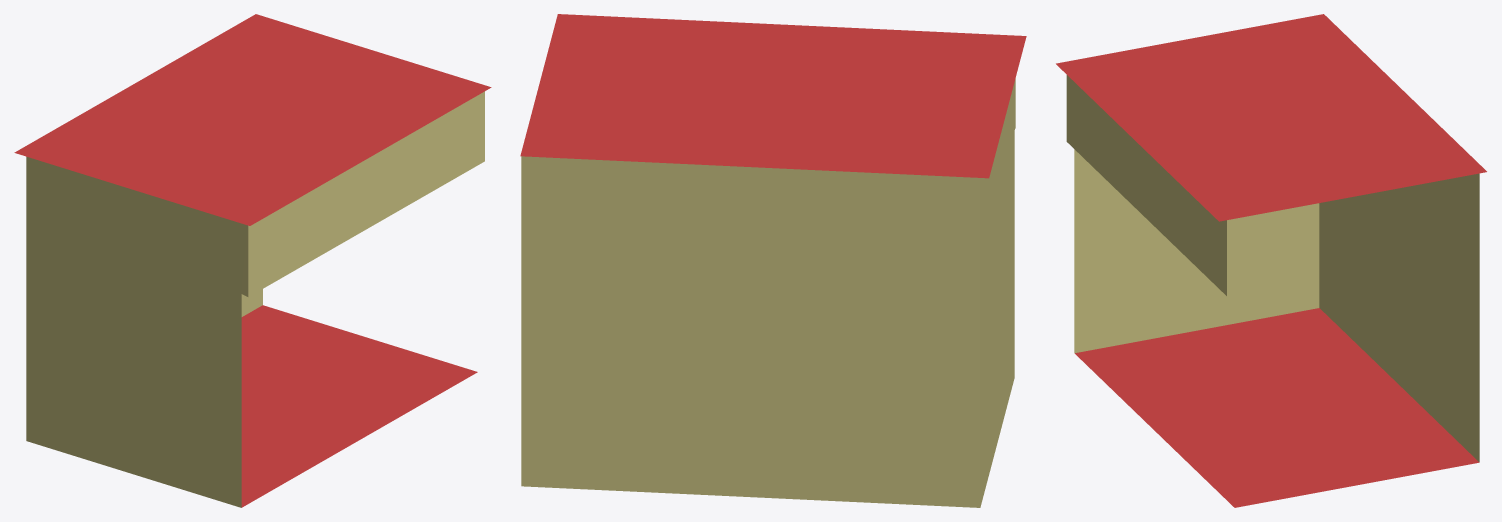
3 renders of one model, left to right at view 1: azimuth 30°, elevation 25°; view 2: azimuth 150°, elevation 25°; view 3: azimuth 270°, elevation 25°, orthographic. The views are drawn at different scales.
Bounding box in the file's own units: 14.24 × 12.52 × 9.25.
